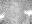person: (25, 12, 31, 17), (1, 14, 7, 18)
